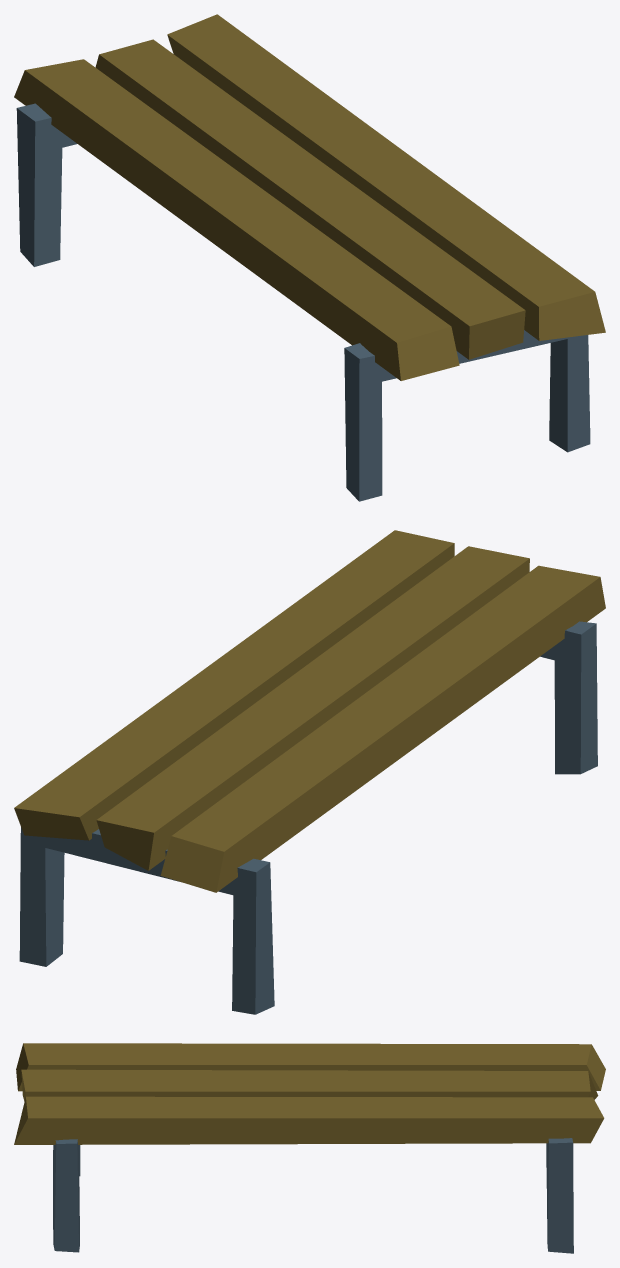
Rendered from chairLong.glb.
3 views of the same model, one above another, from view 1: azimuth 30°, elevation 25°; view 2: azimuth 150°, elevation 25°; view 3: azimuth 270°, elevation 25° (orthographic). The views are drawn at different scales.
Parts seen in each view (by area): view 1: texture; view 2: texture; view 3: texture.
Boxes of the visible parts, x1,y1,x2,y2 form: texture: (14, 14, 605, 501); texture: (14, 530, 605, 1014); texture: (14, 1043, 605, 1253).
Size of the model in its own units: 0.6502 by 0.4515 by 1.86.
